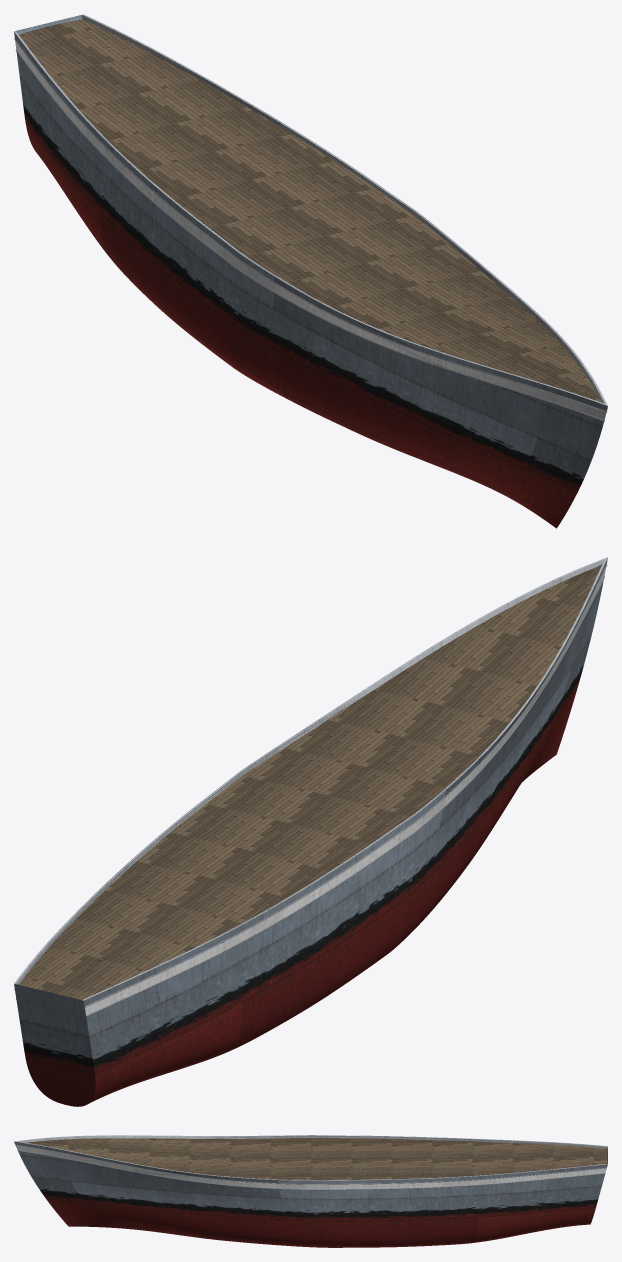
Rendered from battleship_hull.glb.
3 renders of one model, top to bottom at view 1: azimuth 30°, elevation 25°; view 2: azimuth 150°, elevation 25°; view 3: azimuth 270°, elevation 25°, orthographic. The views are drawn at different scales.
Visible parts, largest first — view 1: deck, hull, trim, team; view 2: deck, hull, trim, team; view 3: hull, deck, trim, team.
Part boxes in pixels (bbox=[...]): deck: bbox=[19, 19, 601, 402]; hull: bbox=[14, 15, 607, 528]; trim: bbox=[14, 14, 607, 421]; team: bbox=[15, 40, 606, 420]; deck: bbox=[19, 564, 602, 1000]; hull: bbox=[14, 558, 607, 1106]; trim: bbox=[14, 557, 607, 1016]; team: bbox=[85, 568, 605, 1015]; hull: bbox=[14, 1141, 607, 1247]; deck: bbox=[26, 1138, 607, 1180]; trim: bbox=[14, 1135, 607, 1190]; team: bbox=[16, 1145, 606, 1189].
Size of the model in its own units: 5.38 by 5.02 by 29.4.
Materials: 4 (4 with a texture image).
